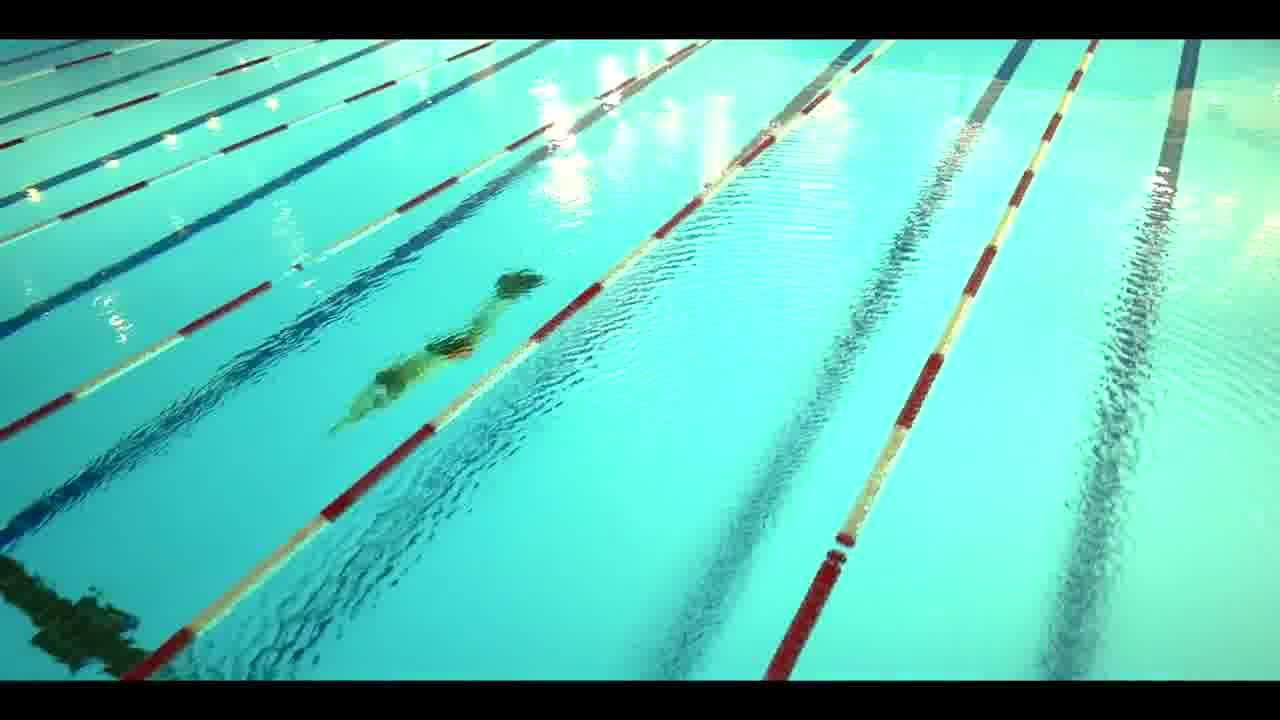human: (330, 269, 536, 442)
